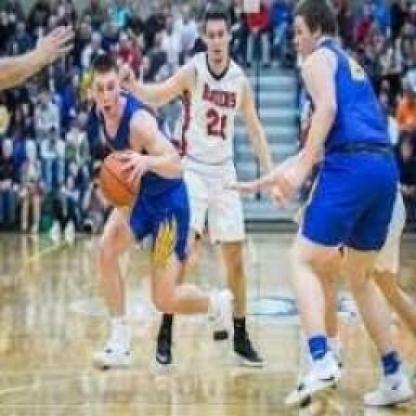basketball: (96, 150, 141, 204)
